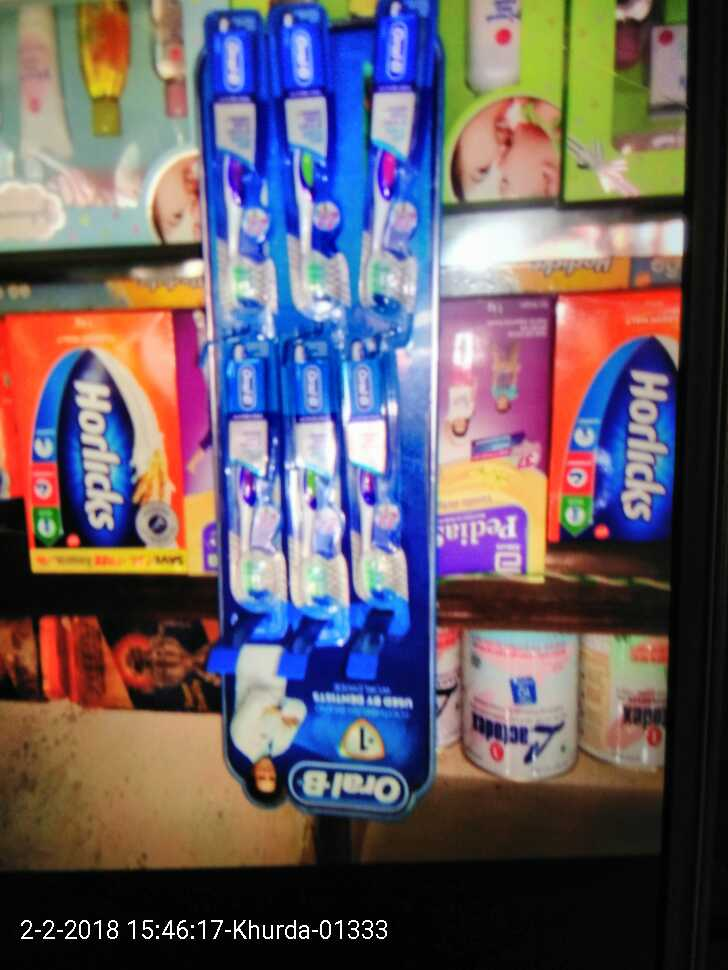oralb: (270, 23, 350, 307), (274, 338, 345, 621), (360, 12, 419, 330), (210, 23, 273, 318), (345, 352, 416, 607), (225, 357, 286, 607)
